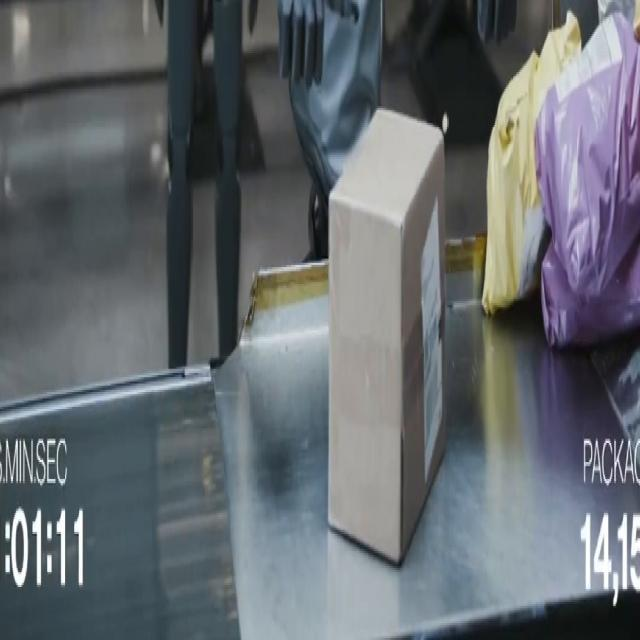package: (328, 109, 445, 563), (536, 13, 639, 296), (483, 13, 580, 313), (542, 238, 639, 347), (598, 0, 639, 23)
